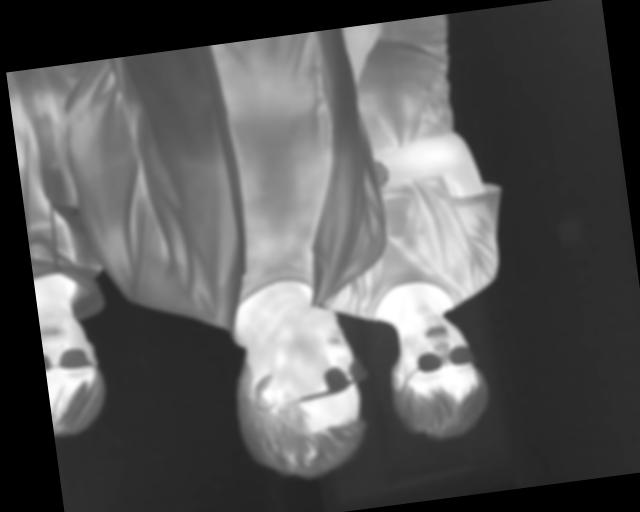face: (222, 301, 374, 489), (383, 307, 491, 447), (38, 305, 111, 439)
